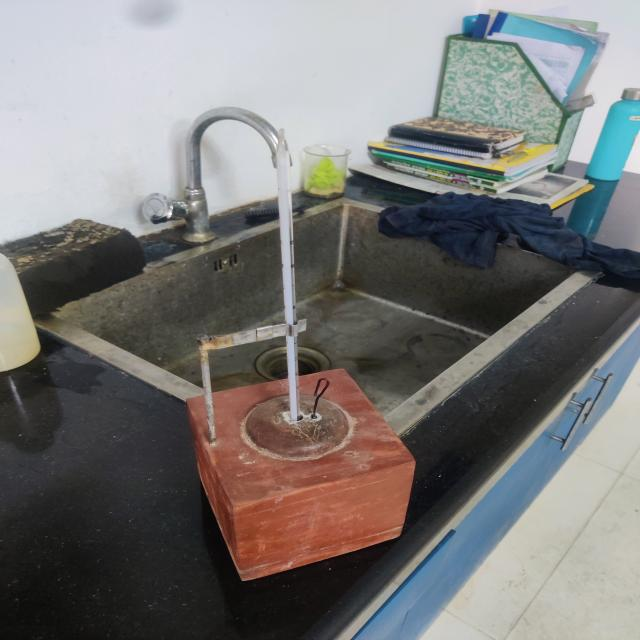Calorimeter: (164, 114, 437, 597)
